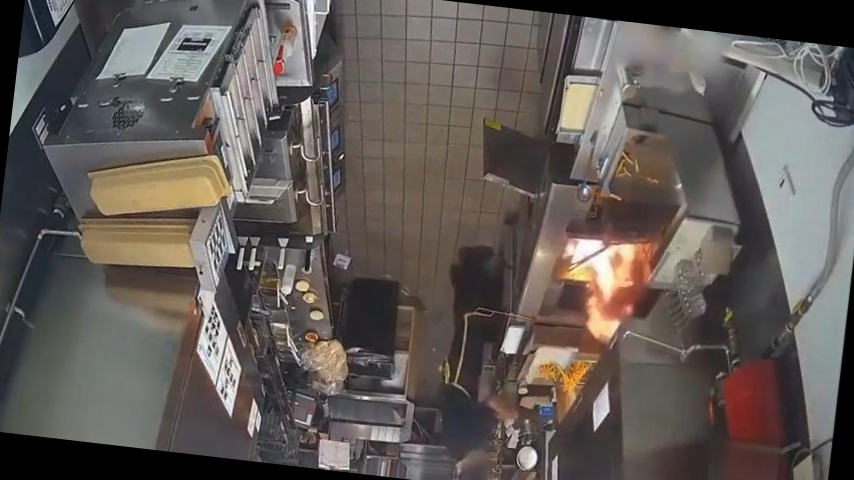fire: (547, 217, 665, 349)
